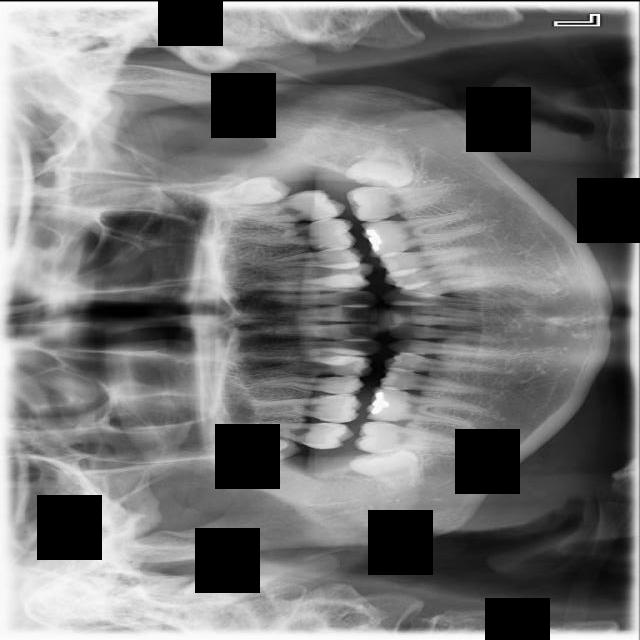3M ESPE Implant: (209, 438, 302, 461)
52: (359, 209, 422, 261), (363, 381, 420, 431)
73: (544, 38, 554, 40)
BioHorizons Implant: (224, 188, 345, 222)
BioLife Implant: (193, 174, 293, 208)
Biomet 3i Implant: (344, 143, 413, 188)
Blue Sky Bio Implant: (345, 179, 457, 223)
Caries: (235, 421, 354, 448)
Implant: (352, 419, 466, 452)
Keystone Dental Implant: (348, 449, 421, 490)
